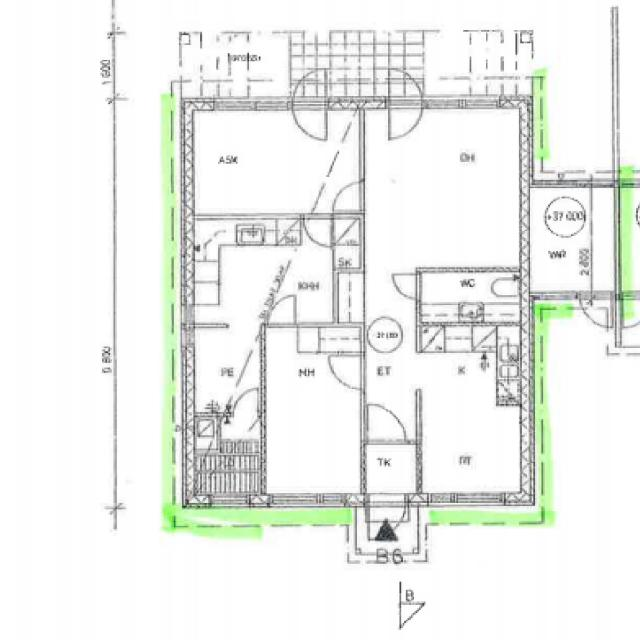door: (369, 492, 406, 544), (368, 402, 405, 444), (293, 97, 325, 143), (293, 64, 325, 110), (389, 64, 421, 110), (389, 97, 421, 142), (326, 355, 366, 389), (579, 292, 612, 332), (333, 182, 365, 210), (234, 389, 258, 418), (394, 274, 422, 298), (338, 244, 365, 266)
